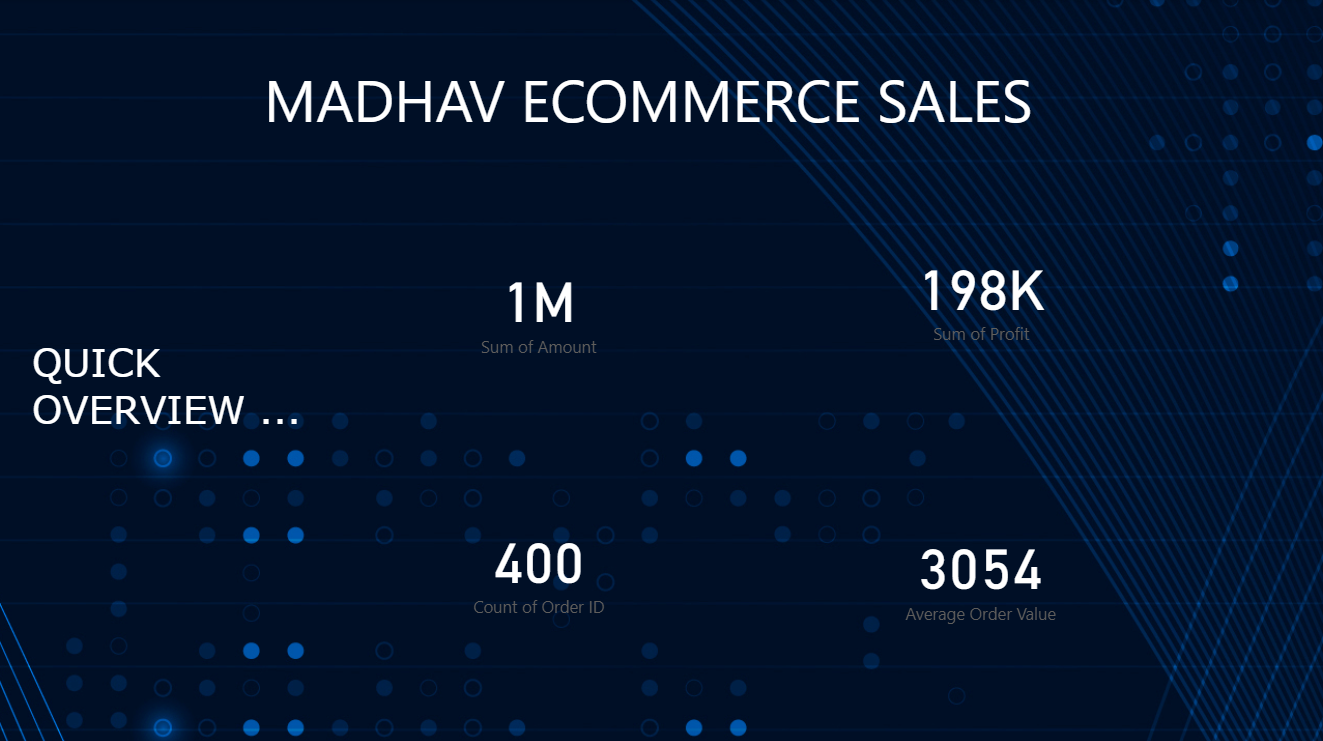

This screenshot's page, from the dashboard's own definition file:
{"tool":"powerbi","page":{"name":"Page 2","canvas":[1280,720],"ordinal":0},"visuals":[{"type":"textbox","box":[144.8,0,963.9,171.3],"z":0},{"type":"textbox","box":[26.5,322.1,282.3,142.4],"z":1000},{"type":"card","fields":{"Values":["Sum(madhav_store_sales_400.Profit)"]},"box":[807.1,209.9,282.3,149.6],"z":2000},{"type":"card","fields":{"Values":["Sum(madhav_store_sales_400.Amount)"]},"box":[422.3,209.9,197.9,173.7],"z":3000},{"type":"card","fields":{"Values":["Count(madhav_store_orders_400.Order ID)"]},"box":[446.4,472.9,149.6,150.8],"z":4000},{"type":"card","fields":{"Values":["madhav_store_sales_400.Sum of Amount divided by Count of Order ID"]},"box":[839.7,472.9,216,162.9],"z":5000}]}

Visuals, with their boxes in screenshot pixels (x1, y1, x2, y2), scaled from the page's 1280x720 canvas onto the 1323x741 screenshot:
textbox: (150,0,1146,176)
textbox: (27,331,319,478)
card - Sum(madhav_store_sales_400.Profit): (834,216,1126,370)
card - Sum(madhav_store_sales_400.Amount): (436,216,641,395)
card - Count(madhav_store_orders_400.Order ID): (461,487,616,642)
card - madhav_store_sales_400.Sum of Amount divided by Count of Order ID: (868,487,1091,654)
